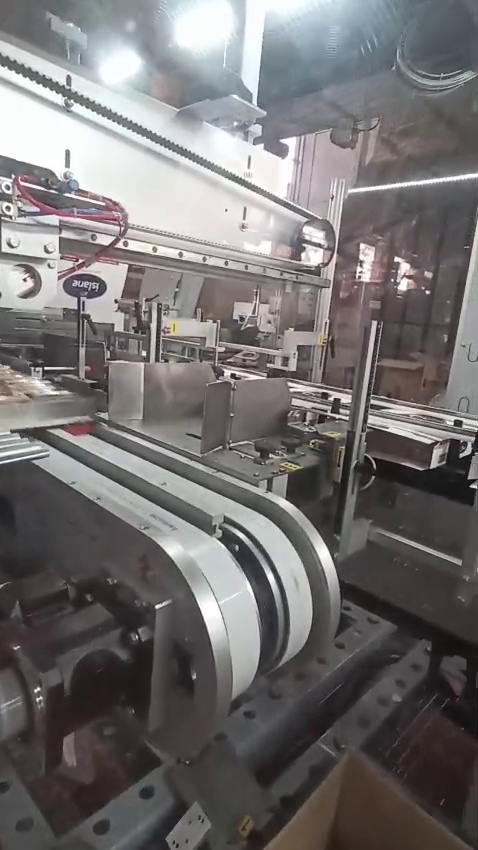savon: (262, 753, 472, 850), (235, 815, 257, 848), (327, 446, 345, 474), (279, 459, 300, 475), (385, 368, 396, 396), (0, 379, 13, 396), (168, 320, 178, 340), (318, 335, 333, 348)
